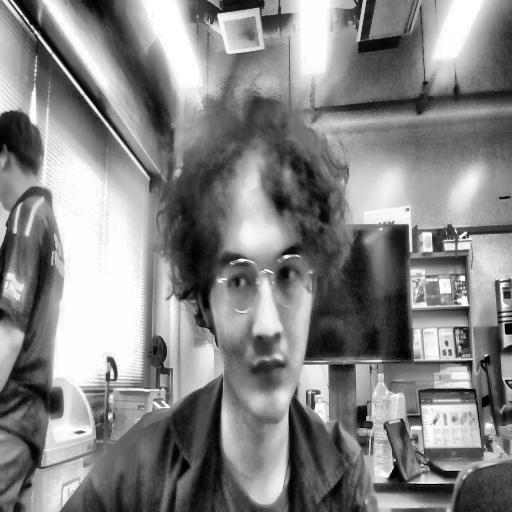Daifuku: (164, 98, 346, 408)
Not Daifuku: (4, 104, 42, 203)
